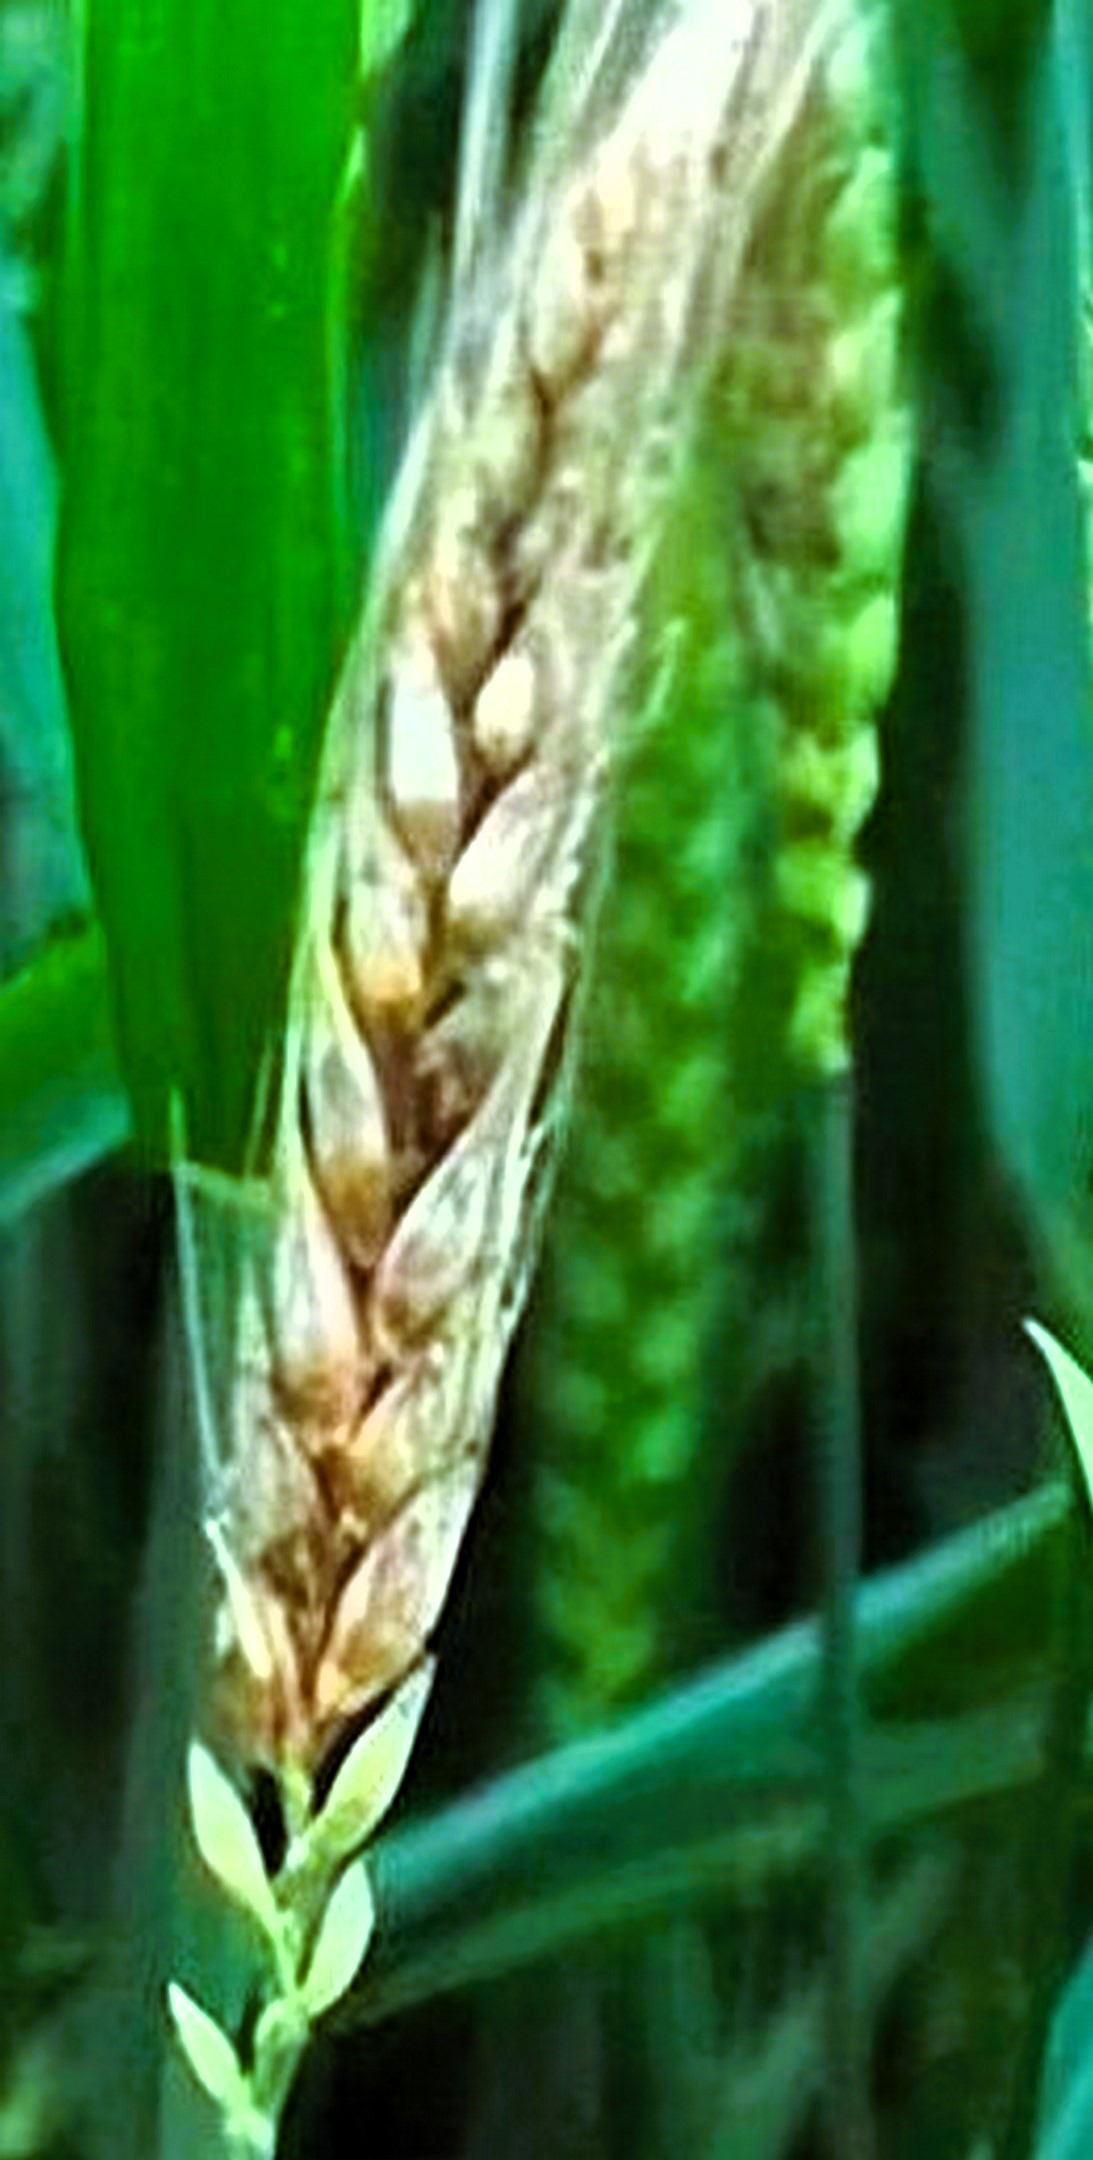Wheat scab: (176, 180, 736, 1989)
